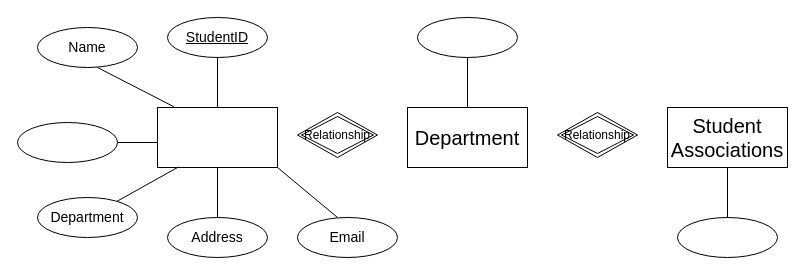
Image size: 805x275. Some labels were removed from this diagram. The shapes that lost their labels are listed below. From the top down, each one's centre as x and y in pixels, then its label:
At pixel 467 37: "DepartmentID".
At pixel 67 142: "Phone Number".
At pixel 217 137: "Student".
At pixel 727 237: "AssociationID".
